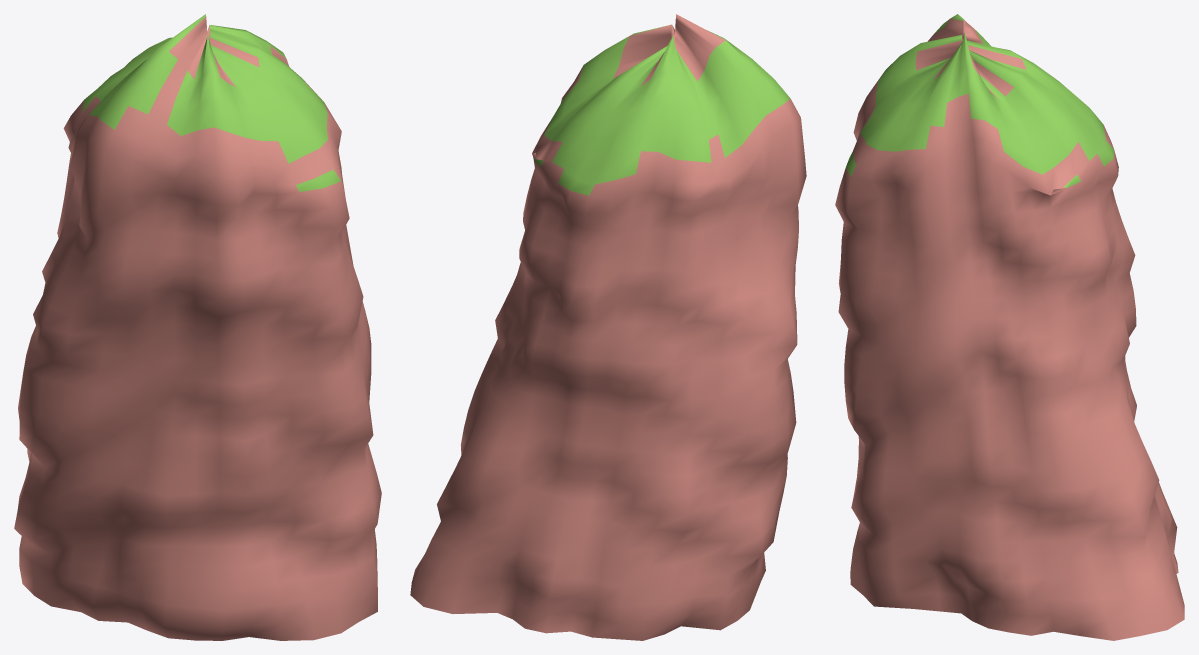
Rendered from rocher.glb.
3 renders of one model, left to right at view 1: azimuth 30°, elevation 25°; view 2: azimuth 150°, elevation 25°; view 3: azimuth 270°, elevation 25°, orthographic. The views are drawn at different scales.
Visible parts, largest first — view 1: Rocher; view 2: Rocher; view 3: Rocher.
Boxes of the visible parts, x1,y1,x2,y2 form: Rocher: [14, 14, 381, 640]; Rocher: [410, 14, 806, 640]; Rocher: [835, 14, 1184, 640].
Size of the model in its own units: 6.49 by 10.46 by 6.21.
